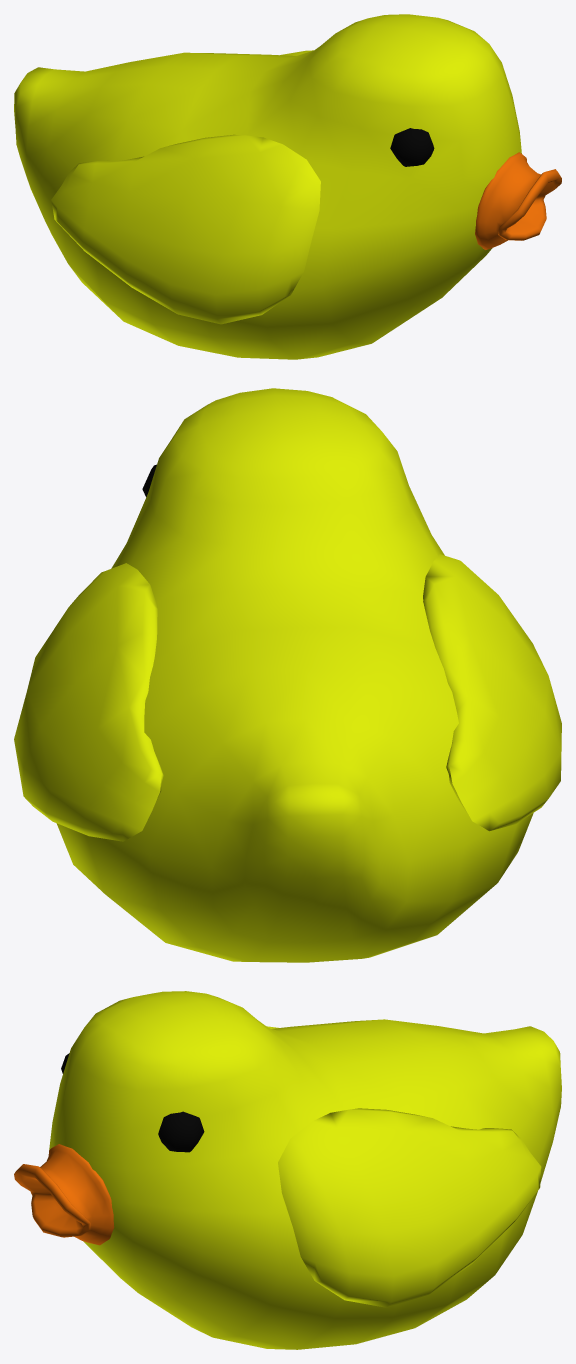
The model's file is Duck.fbx.
The picture shows the model from 3 angles, top to bottom: view 1: azimuth 30°, elevation 25°; view 2: azimuth 150°, elevation 25°; view 3: azimuth 270°, elevation 25°; orthographic projection. The views are drawn at different scales.
Parts seen in each view (by area): view 1: Duck; view 2: Duck; view 3: Duck.
Boxes of the visible parts, x1,y1,x2,y2 form: Duck: [14, 14, 561, 359]; Duck: [14, 388, 561, 962]; Duck: [14, 991, 561, 1349].
Bounding box in the file's own units: 230 × 194 × 275.
